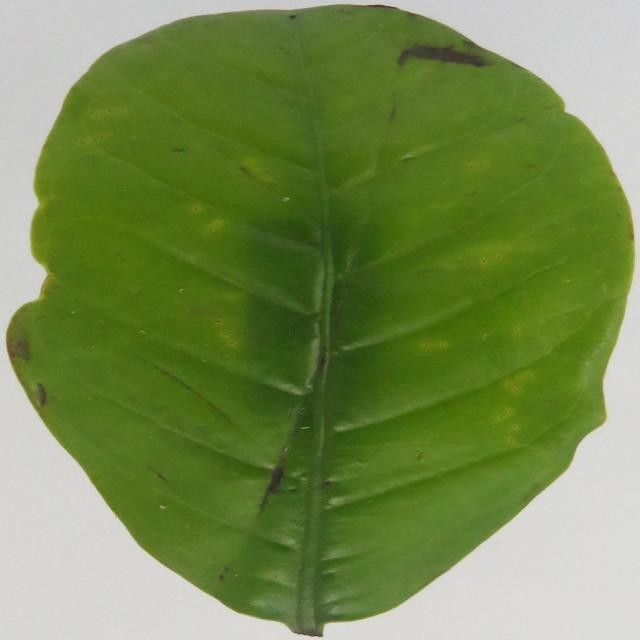DeficienciaNutricional-Boro: (7, 5, 631, 634)
